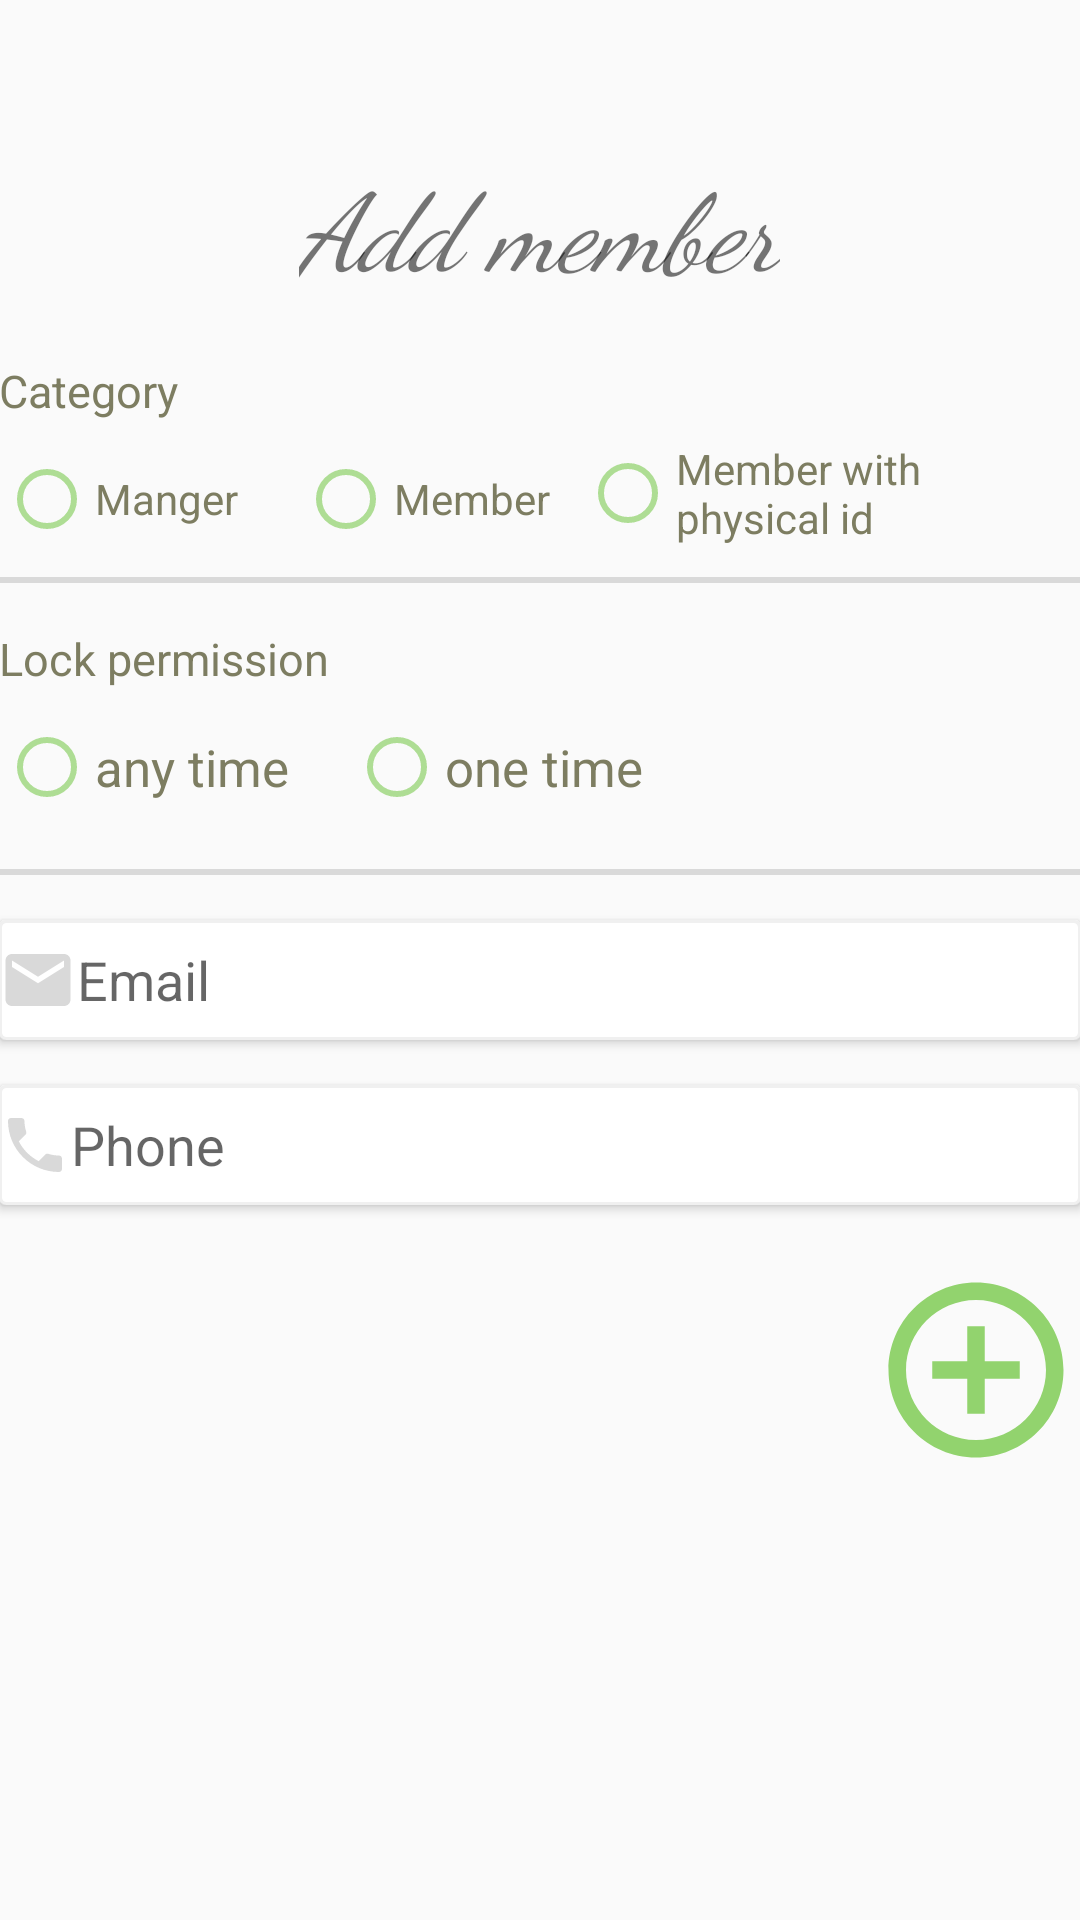

Where icons sit on this 1080 x 1920 app screen, as (x1, y1, x2, y2):
plus: (888, 1282, 1064, 1458)
